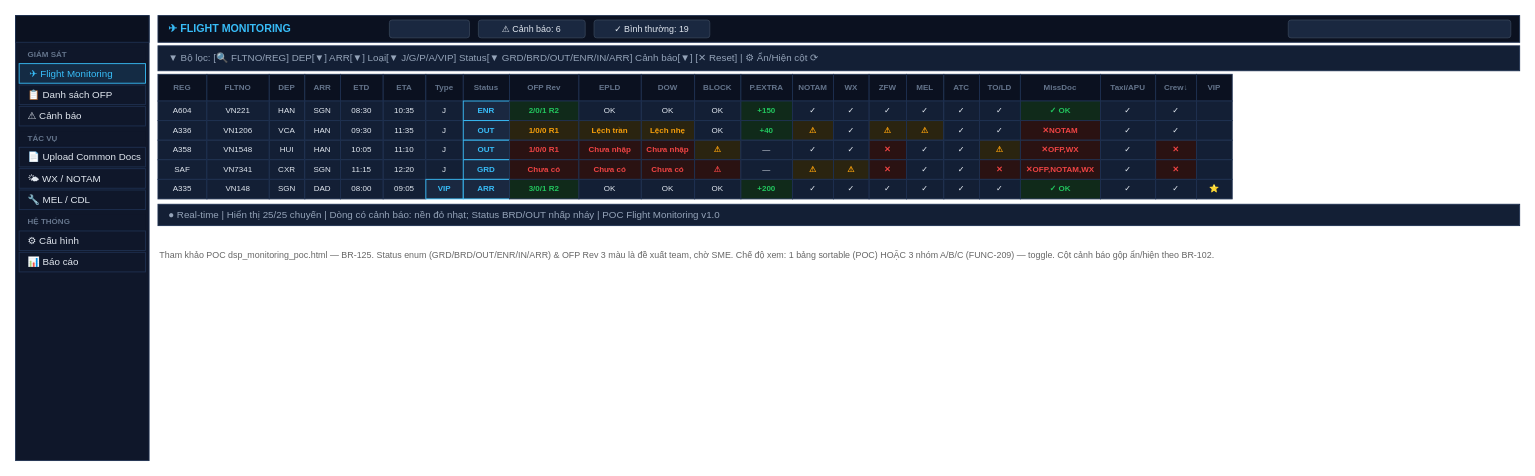
This 1535x476 diagram has some shape labels left out. Here are the shapes that lost their labels. From the top down, the centre of each, then its label:
At pixel 82 28: "▣ TOSS DSP ◀".
At pixel 428 28: "Tổng: 25".
At pixel 1399 28: "Giám sát: 19/09/2025 ⏱ 08:15:30".
